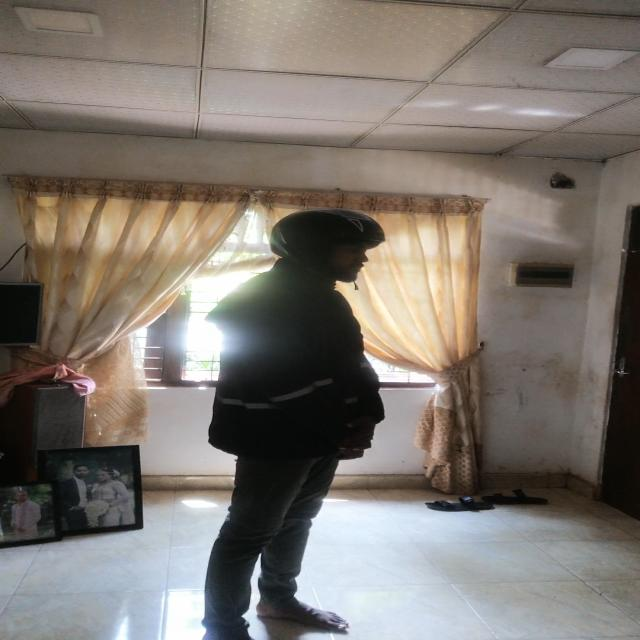Helmet_Wearer: (265, 208, 388, 289)
Jacket_Wearer: (212, 270, 381, 467)
Person: (196, 205, 387, 637)
